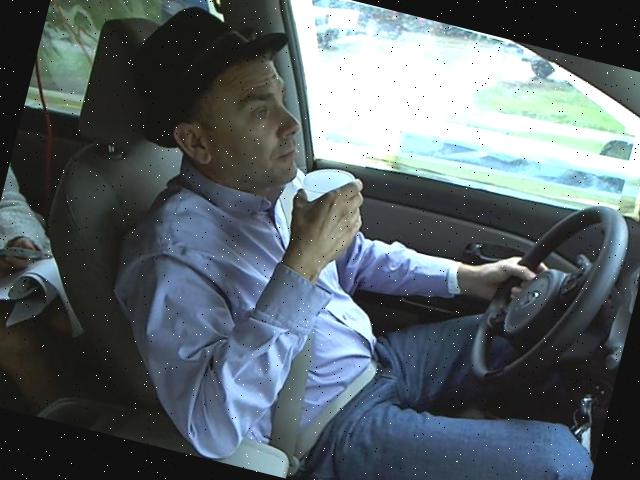c4 - Drinking: (26, 0, 639, 479)
